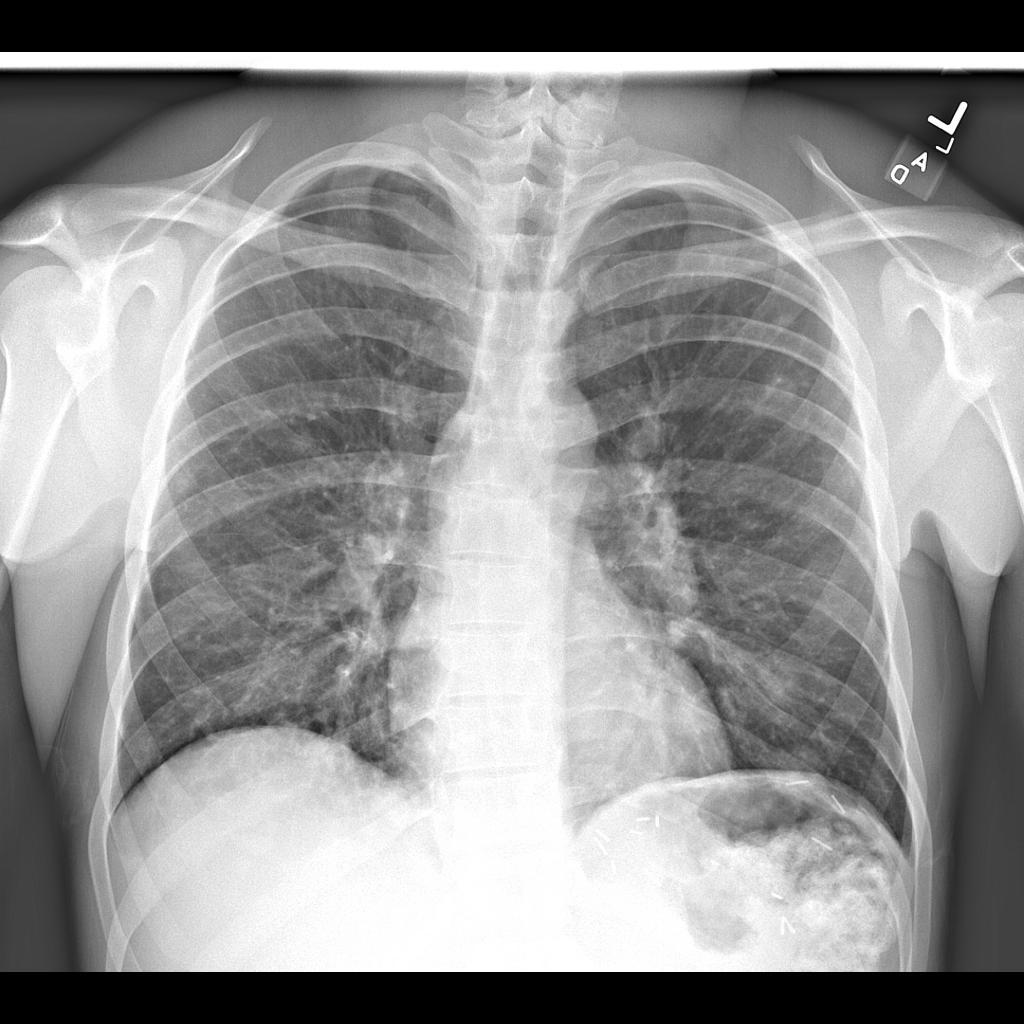Nodule: (758, 365, 809, 414)
